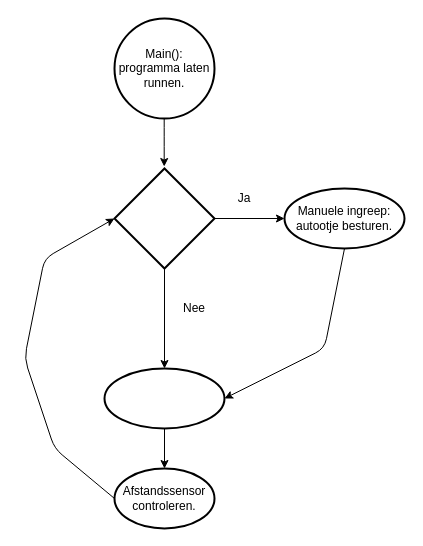
The diagram is 423 pixels wide and 546 high, and some of its shapes have lost their labels. Each missing label, with the centre of its shape:
"Lijn volgen." belongs at point 164,398.
"Manuele override starten?" belongs at point 164,218.
